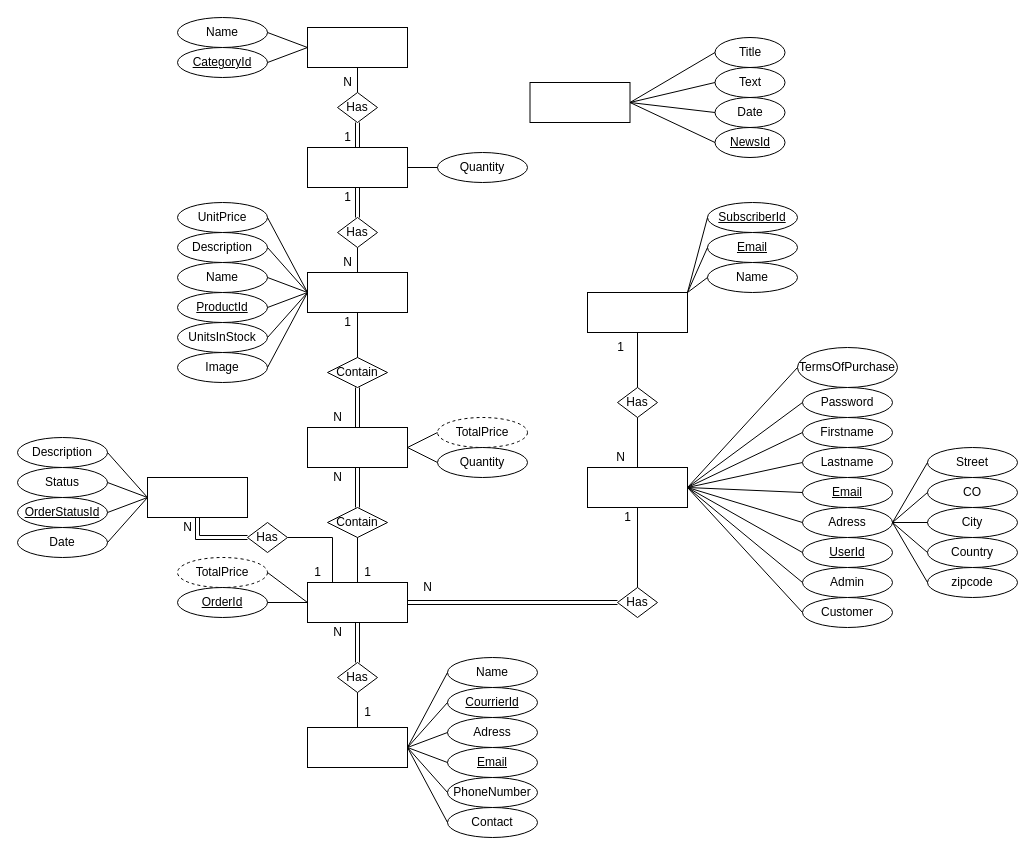
The diagram is 1035 pixels wide and 855 high, and some of its shapes have lost their labels. Each missing label, with the centre of its shape:
Category: the point at 357,47
Courrier: the point at 357,747
Newsletter: the point at 579,102
Order: the point at 357,602
Orderdetails: the point at 357,447
OrderStatus: the point at 197,497
Product: the point at 357,292
ProductInCategory: the point at 357,167
SubscriptionNews: the point at 637,312
User: the point at 637,487
